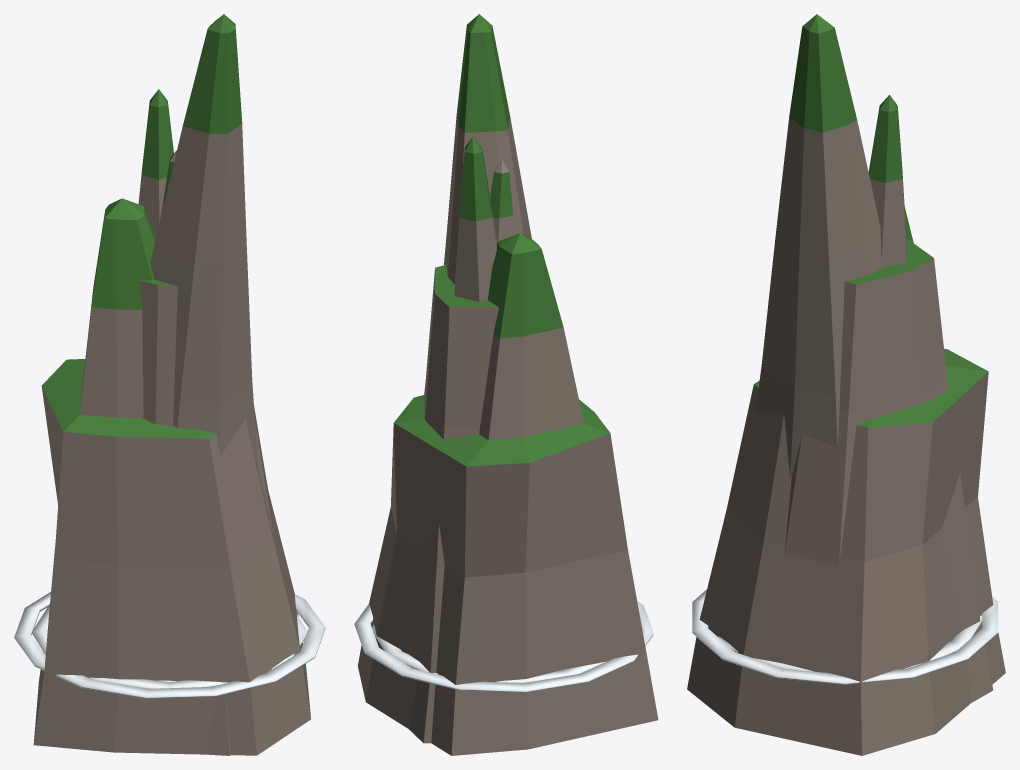
Rendered from Kit_SeaStack.glb.
3 renders of one model, left to right at view 1: azimuth 30°, elevation 25°; view 2: azimuth 150°, elevation 25°; view 3: azimuth 270°, elevation 25°, orthographic. The views are drawn at different scales.
Parts seen in each view (by area): view 1: Kit_SeaStack_B, Kit_SeaStack_A, Kit_SeaStack_C; view 2: Kit_SeaStack_B, Kit_SeaStack_C, Kit_SeaStack_A; view 3: Kit_SeaStack_B, Kit_SeaStack_A, Kit_SeaStack_C.
Boxes of the visible parts, x1,y1,x2,y2 form: Kit_SeaStack_B: (14,198,325,755); Kit_SeaStack_A: (150,14,257,681); Kit_SeaStack_C: (32,89,307,755); Kit_SeaStack_B: (354,233,658,755); Kit_SeaStack_C: (372,137,605,743); Kit_SeaStack_A: (444,14,531,284); Kit_SeaStack_B: (687,207,1005,755); Kit_SeaStack_A: (755,14,882,477); Kit_SeaStack_C: (718,95,993,702).
Bounding box in the file's own units: 114 × 255 × 107.
